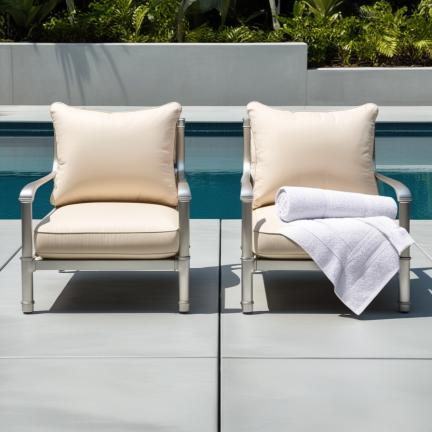empty chair: (19, 102, 191, 313)
occupied chair: (240, 102, 413, 314)
